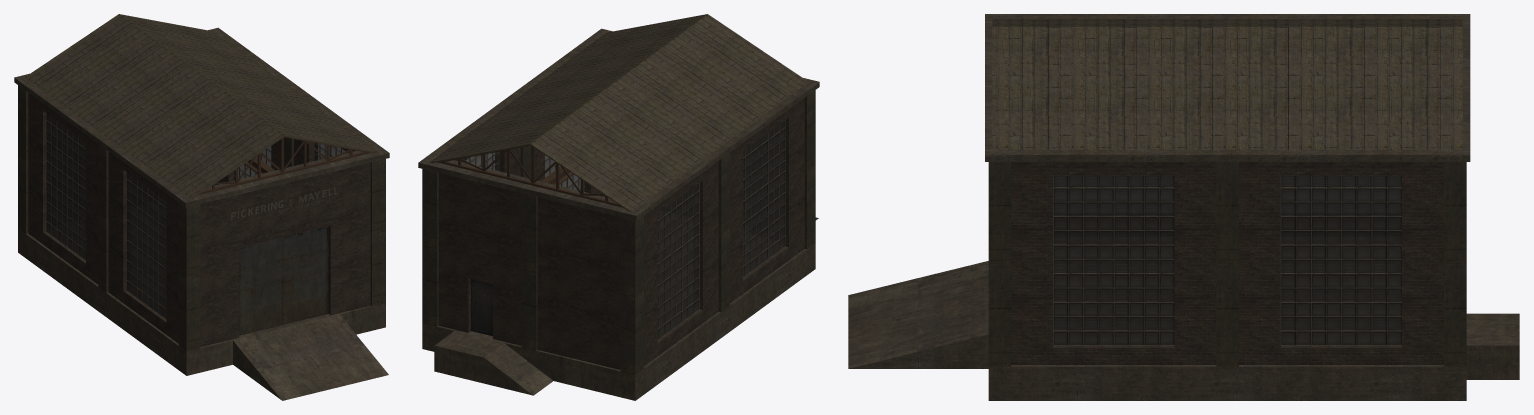
Rendered from warehouse_mx_1.fbx.
3 views of the same model, side by side, from view 1: azimuth 30°, elevation 25°; view 2: azimuth 150°, elevation 25°; view 3: azimuth 270°, elevation 25° (orthographic). The views are drawn at different scales.
Parts seen in each view (by area): view 1: warehouse_mx_1, garage_door_hr_4_piece_2, garage_door_hr_4_piece_1, building_sign_mx_1; view 2: warehouse_mx_1, door_hr_5; view 3: warehouse_mx_1.
Part boxes in pixels (x1,y1,x2,y2): warehouse_mx_1: [14, 14, 389, 400]; garage_door_hr_4_piece_2: [283, 226, 328, 324]; garage_door_hr_4_piece_1: [239, 237, 282, 335]; building_sign_mx_1: [231, 187, 337, 220]; warehouse_mx_1: [418, 14, 819, 400]; door_hr_5: [471, 279, 492, 336]; warehouse_mx_1: [848, 14, 1519, 400].
Size of the model in its own units: 8.8 by 17.7 by 8.87.
